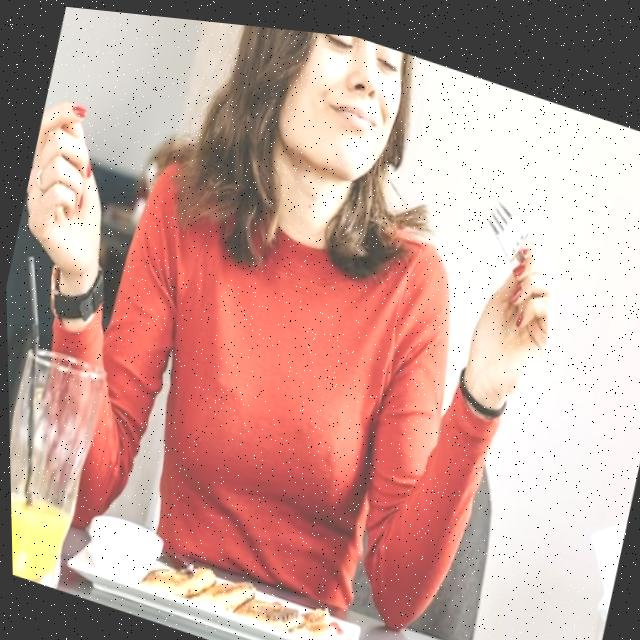eating-person: (0, 0, 613, 640)
